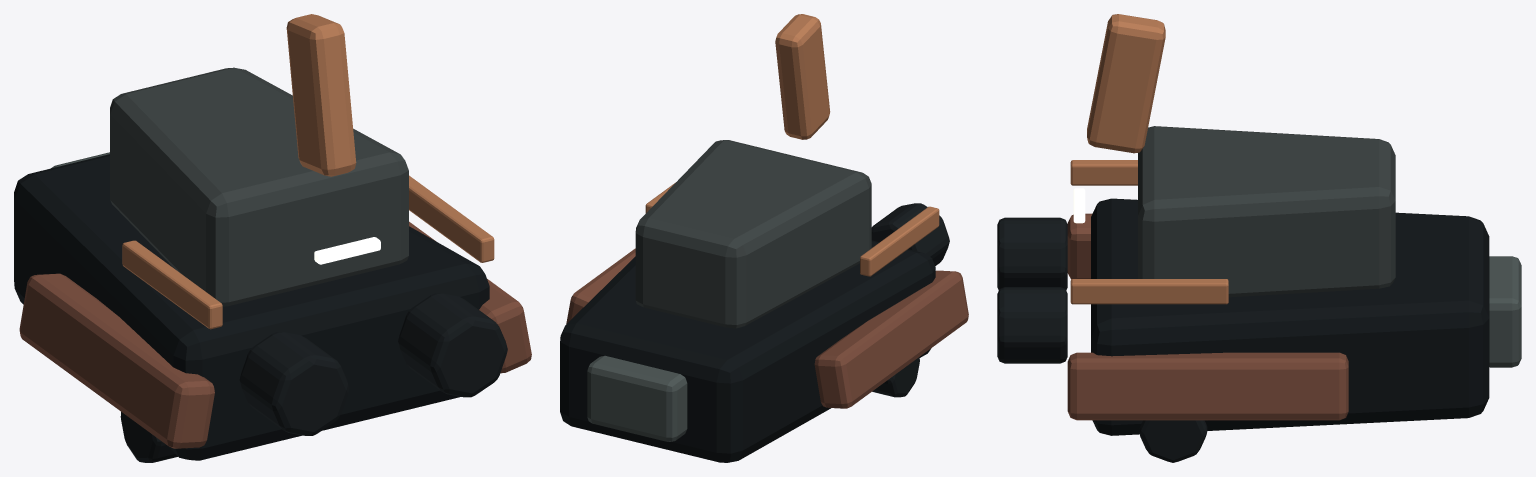
File: enemy_runner.glb
The picture shows the model from 3 angles, left to right: view 1: azimuth 30°, elevation 25°; view 2: azimuth 150°, elevation 25°; view 3: azimuth 270°, elevation 25°; orthographic projection. The views are drawn at different scales.
Visible parts, largest first — view 1: Runner_upper_keel, Runner_lower_skimmer, Runner_left_stabilizer, Runner_tail_fin, Runner_right_rear_thruster, Runner_left_rear_thruster, Runner_left_rail, Runner_right_rail, Runner_right_stabilizer, Runner_left_skid_joint, Runner_rear_status_bar; view 2: Runner_lower_skimmer, Runner_upper_keel, Runner_left_stabilizer, Runner_nose_cap, Runner_tail_fin, Runner_left_rail, Runner_left_rear_thruster, Runner_right_stabilizer, Runner_left_skid_joint; view 3: Runner_lower_skimmer, Runner_upper_keel, Runner_right_stabilizer, Runner_tail_fin, Runner_right_rear_thruster, Runner_left_rear_thruster, Runner_right_rail, Runner_nose_cap, Runner_right_skid_joint, Runner_left_rail, Runner_left_stabilizer.
Boxes of the visible parts, left/top/right/bottom form: Runner_upper_keel: left=110, top=67, right=408, bottom=306; Runner_lower_skimmer: left=14, top=154, right=489, bottom=460; Runner_left_stabilizer: left=19, top=273, right=214, bottom=448; Runner_tail_fin: left=286, top=14, right=356, bottom=176; Runner_right_rear_thruster: left=398, top=293, right=507, bottom=397; Runner_left_rear_thruster: left=239, top=332, right=349, bottom=435; Runner_left_rail: left=122, top=240, right=222, bottom=329; Runner_right_rail: left=409, top=175, right=494, bottom=262; Runner_right_stabilizer: left=409, top=221, right=531, bottom=373; Runner_left_skid_joint: left=120, top=412, right=177, bottom=462; Runner_rear_status_bar: left=314, top=237, right=380, bottom=264; Runner_lower_skimmer: left=560, top=240, right=935, bottom=462; Runner_upper_keel: left=635, top=140, right=871, bottom=328; Runner_left_stabilizer: left=814, top=270, right=968, bottom=408; Runner_nose_cap: left=587, top=355, right=687, bottom=441; Runner_tail_fin: left=775, top=14, right=830, bottom=139; Runner_left_rail: left=860, top=206, right=939, bottom=276; Runner_left_rear_thruster: left=871, top=203, right=949, bottom=266; Runner_right_stabilizer: left=566, top=248, right=635, bottom=323; Runner_left_skid_joint: left=872, top=357, right=919, bottom=397; Runner_lower_skimmer: left=1091, top=198, right=1489, bottom=435; Runner_upper_keel: left=1138, top=126, right=1395, bottom=297; Runner_right_stabilizer: left=1067, top=352, right=1348, bottom=420; Runner_tail_fin: left=1087, top=14, right=1165, bottom=153; Runner_right_rear_thruster: left=997, top=287, right=1067, bottom=363; Runner_left_rear_thruster: left=997, top=217, right=1067, bottom=290; Runner_right_rail: left=1070, top=279, right=1228, bottom=304; Runner_nose_cap: left=1489, top=256, right=1521, bottom=367; Runner_right_skid_joint: left=1139, top=420, right=1207, bottom=462; Runner_left_rail: left=1070, top=160, right=1137, bottom=185; Runner_left_stabilizer: left=1067, top=213, right=1092, bottom=279.
Bounding box in the file's own units: 0.6428 × 0.7125 × 0.895.
